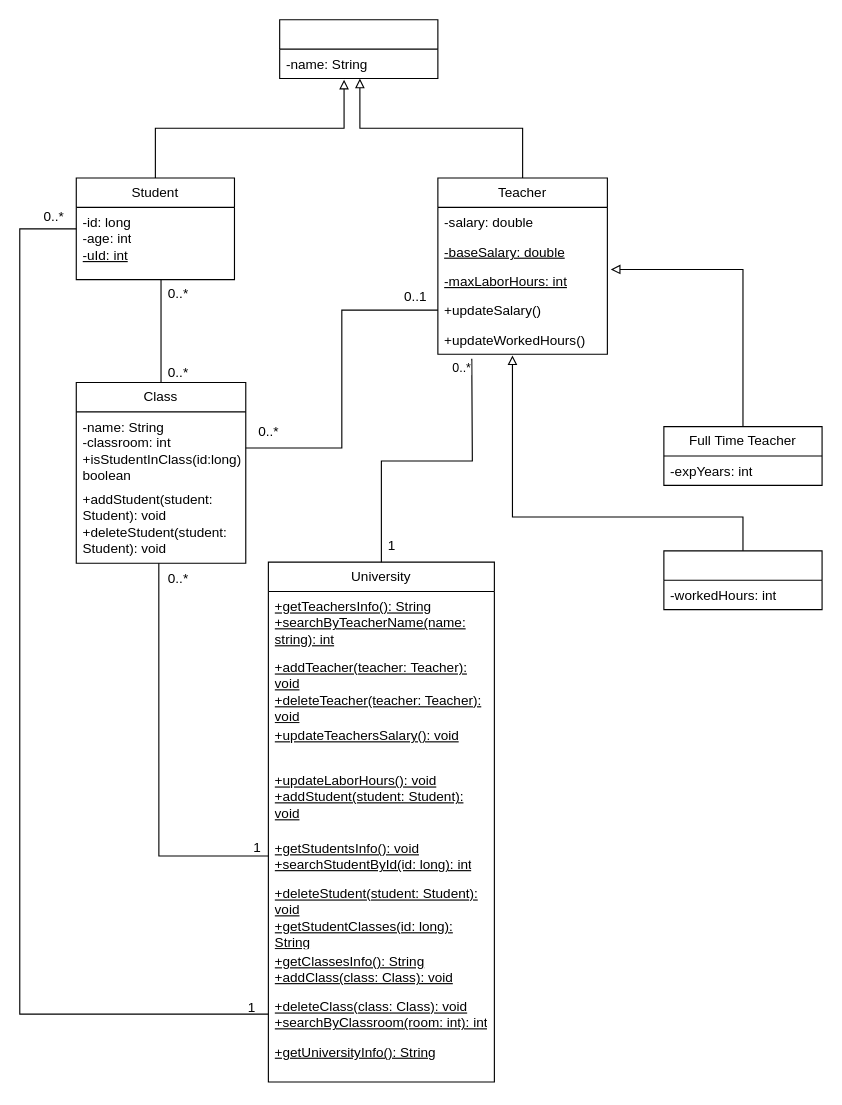
This 842x1105 diagram has some shape labels left out. The box of each missing label's shape, as (x1, y1, x2, y2) in pixels:
Part Time Teacher: (663, 550, 822, 610)
Person: (279, 19, 438, 79)
